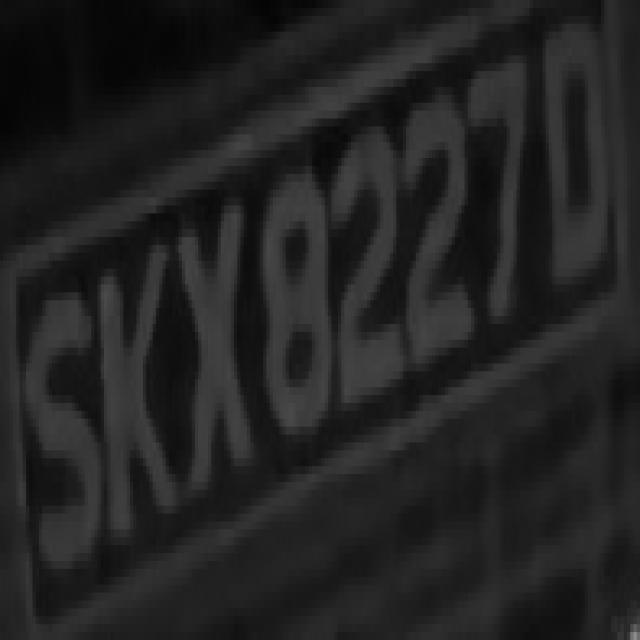2: (308, 118, 412, 426), (387, 103, 478, 371)
7: (452, 8, 536, 363)
8: (257, 142, 331, 482)
D: (523, 24, 624, 300)
K: (98, 221, 185, 577)
S: (20, 284, 100, 608)
X: (169, 174, 263, 506)
